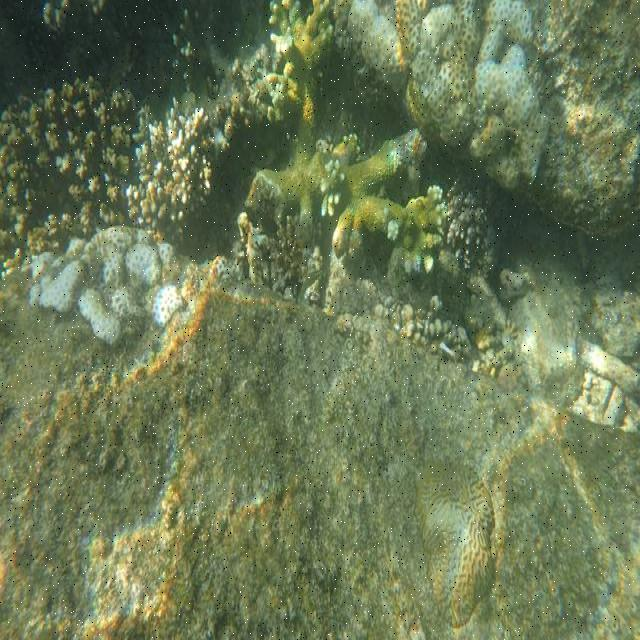reefs: (2, 46, 282, 270), (246, 0, 447, 282), (347, 0, 546, 190), (31, 224, 186, 347)
